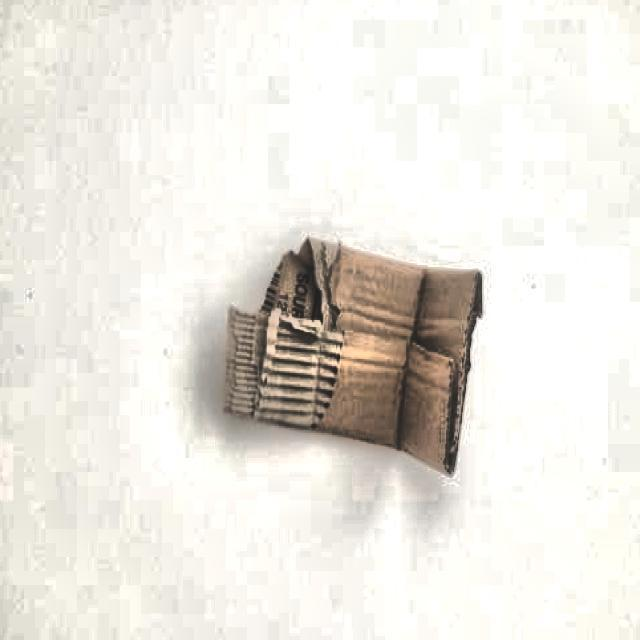cardboard: (223, 237, 484, 479)
